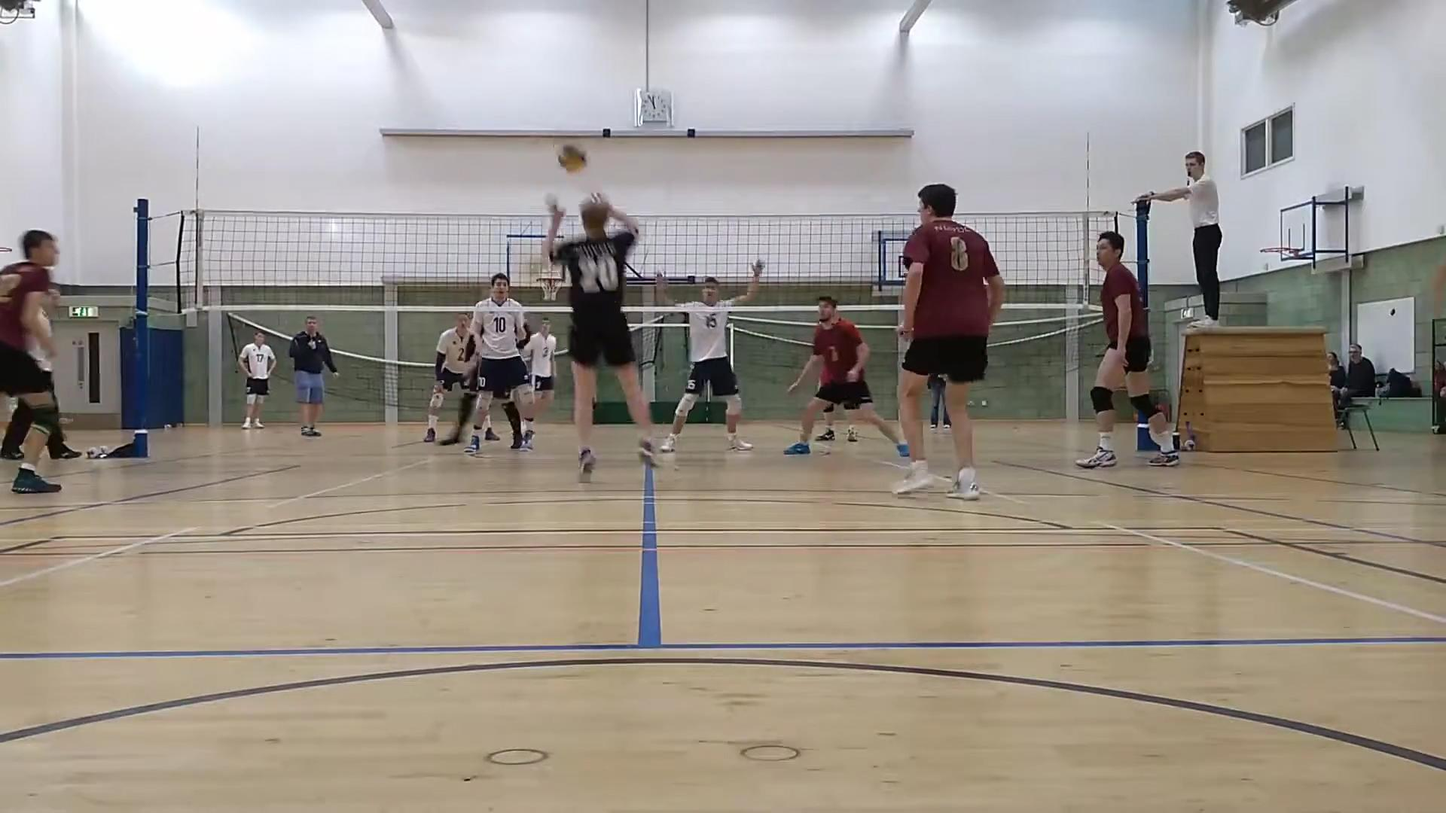ricezione: (549, 177, 663, 469)
